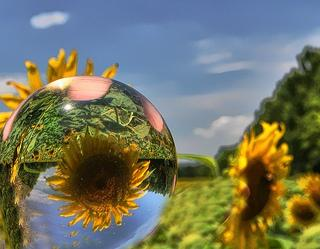sunflower: (51, 128, 150, 226), (228, 120, 289, 249)
